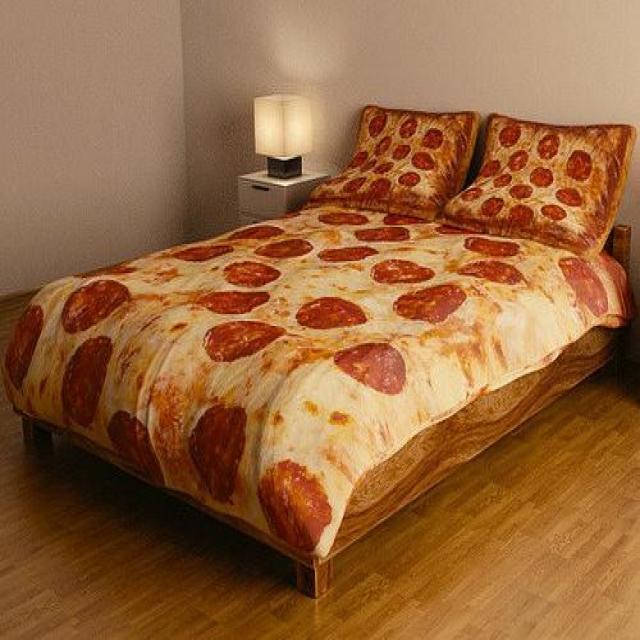bed: (3, 102, 636, 599)
